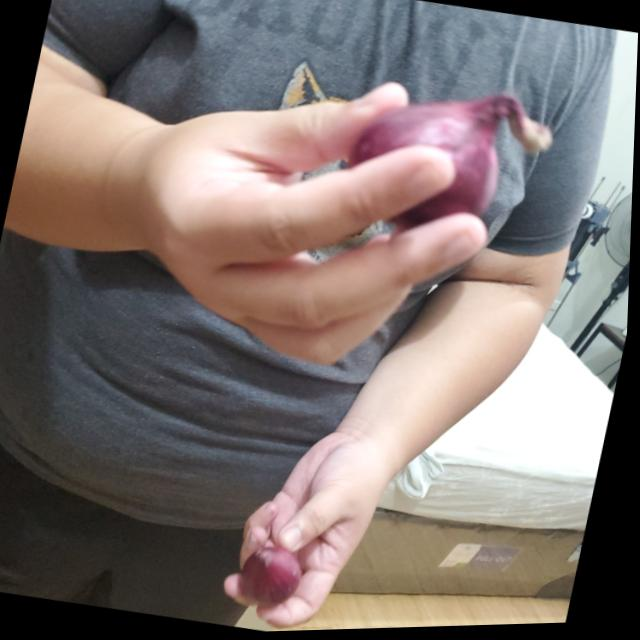onion: (348, 72, 553, 228), (235, 533, 315, 613)
